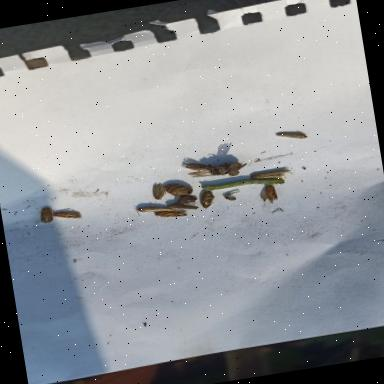pbw: (149, 207, 189, 223), (134, 200, 170, 216), (249, 168, 290, 182), (274, 128, 308, 144), (52, 207, 86, 223), (166, 200, 200, 214), (198, 188, 220, 208), (259, 184, 282, 202), (36, 206, 57, 225), (148, 183, 164, 201)
